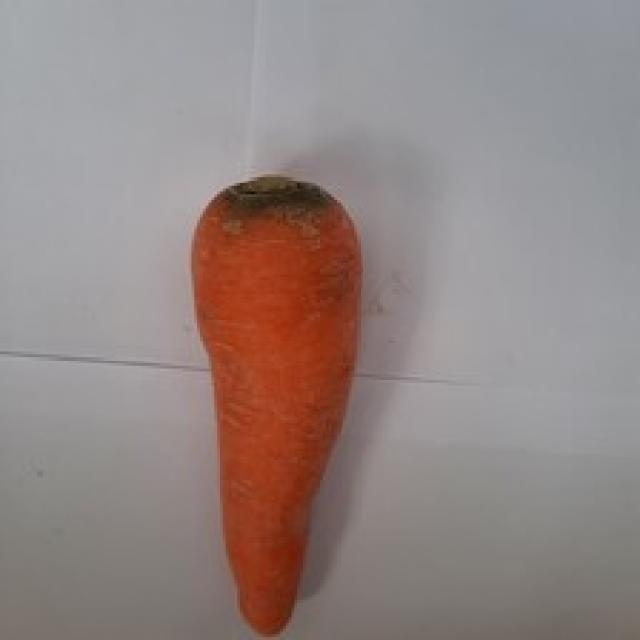Fresh_Carrot: (197, 188, 366, 640)
